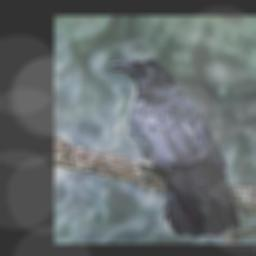Crow: (109, 58, 241, 237)
